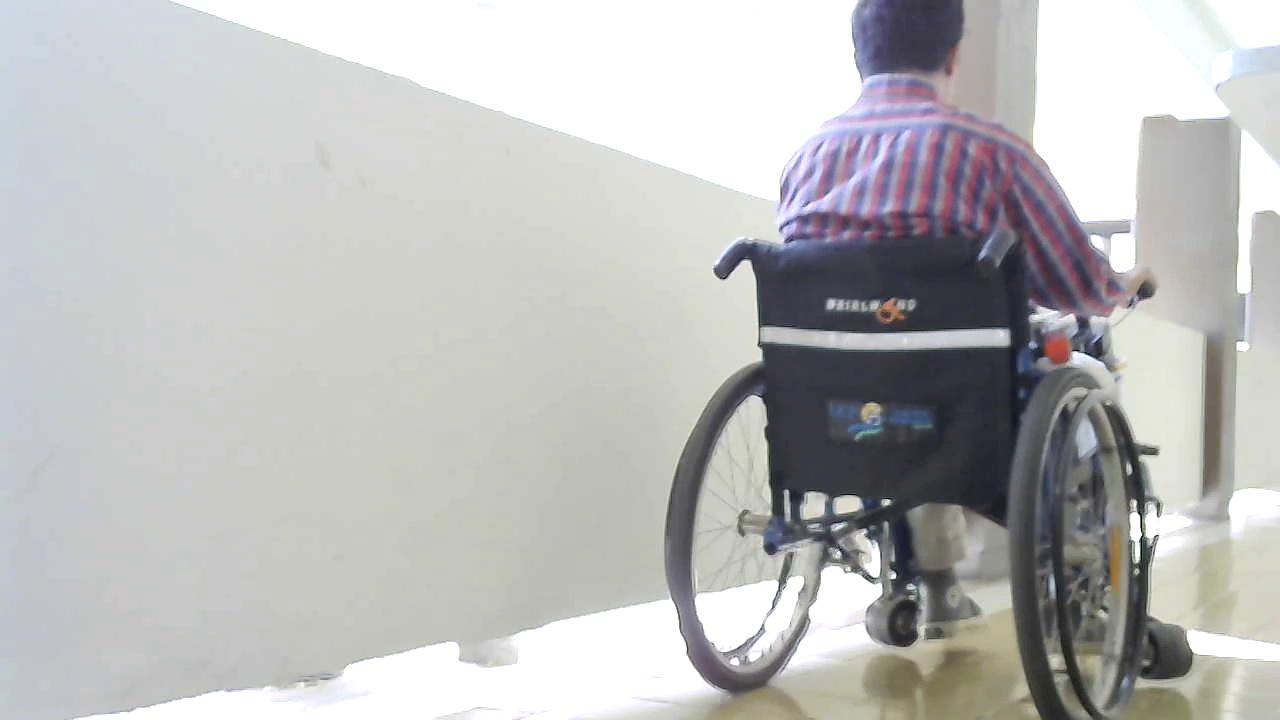person: (711, 2, 1145, 657)
wheelchair: (641, 222, 1214, 720)
